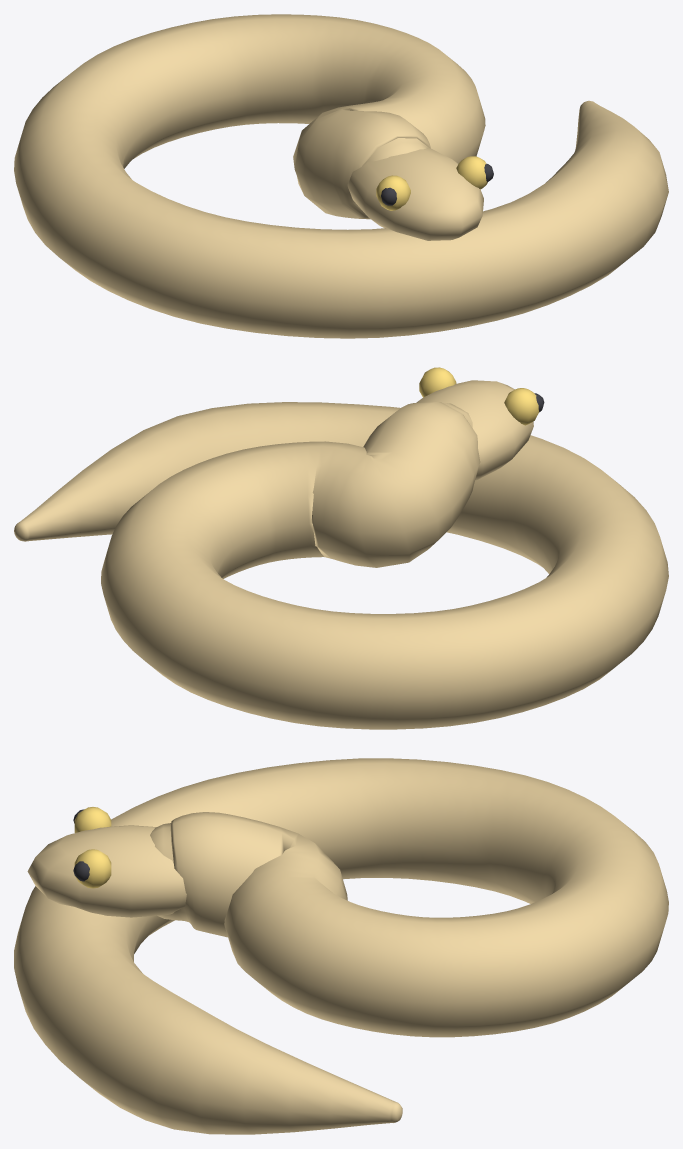
Rendered from reptiles-amphibians-and-minibeasts-cobra-resting-fd991d12__22442.glb.
3 renders of one model, top to bottom at view 1: azimuth 30°, elevation 25°; view 2: azimuth 150°, elevation 25°; view 3: azimuth 270°, elevation 25°, orthographic. The views are drawn at different scales.
Visible parts, largest first — view 1: cobra-resting; view 2: cobra-resting; view 3: cobra-resting.
Boxes of the visible parts, left/top/right/bottom form: cobra-resting: left=14, top=14, right=668, bottom=338; cobra-resting: left=14, top=367, right=668, bottom=729; cobra-resting: left=14, top=758, right=668, bottom=1134.
Bounding box in the file's own units: 0.705 × 0.2078 × 0.65.
